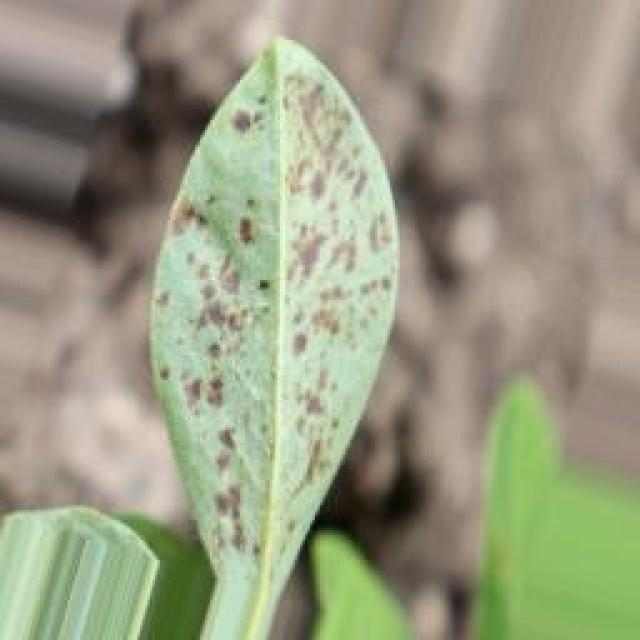Whitefly: (116, 26, 394, 543)
